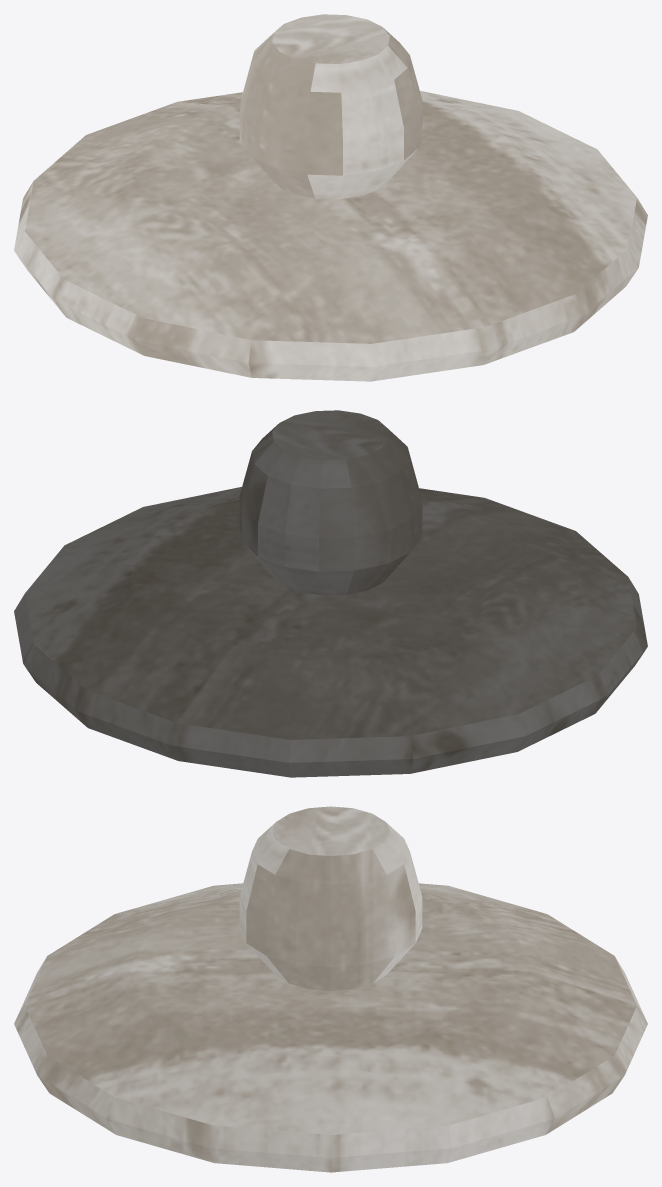
File: Kettle_20946856.obj
3 renders of one model, top to bottom at view 1: azimuth 30°, elevation 25°; view 2: azimuth 150°, elevation 25°; view 3: azimuth 270°, elevation 25°, orthographic.
Visible parts, largest first — view 1: Kettle_20946856; view 2: Kettle_20946856; view 3: Kettle_20946856.
Boxes of the visible parts, box(x1,y1,x2,y2) form: Kettle_20946856: box(14, 14, 647, 381); Kettle_20946856: box(14, 410, 647, 777); Kettle_20946856: box(14, 806, 647, 1172).
Bounding box in the file's own units: 0.1361 × 0.0504 × 0.1361.
